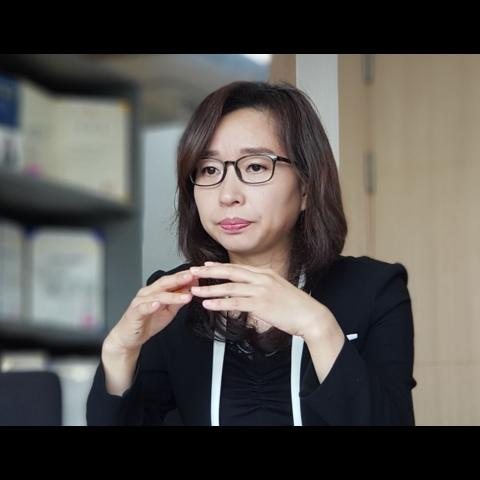opened: (188, 144, 286, 186)
